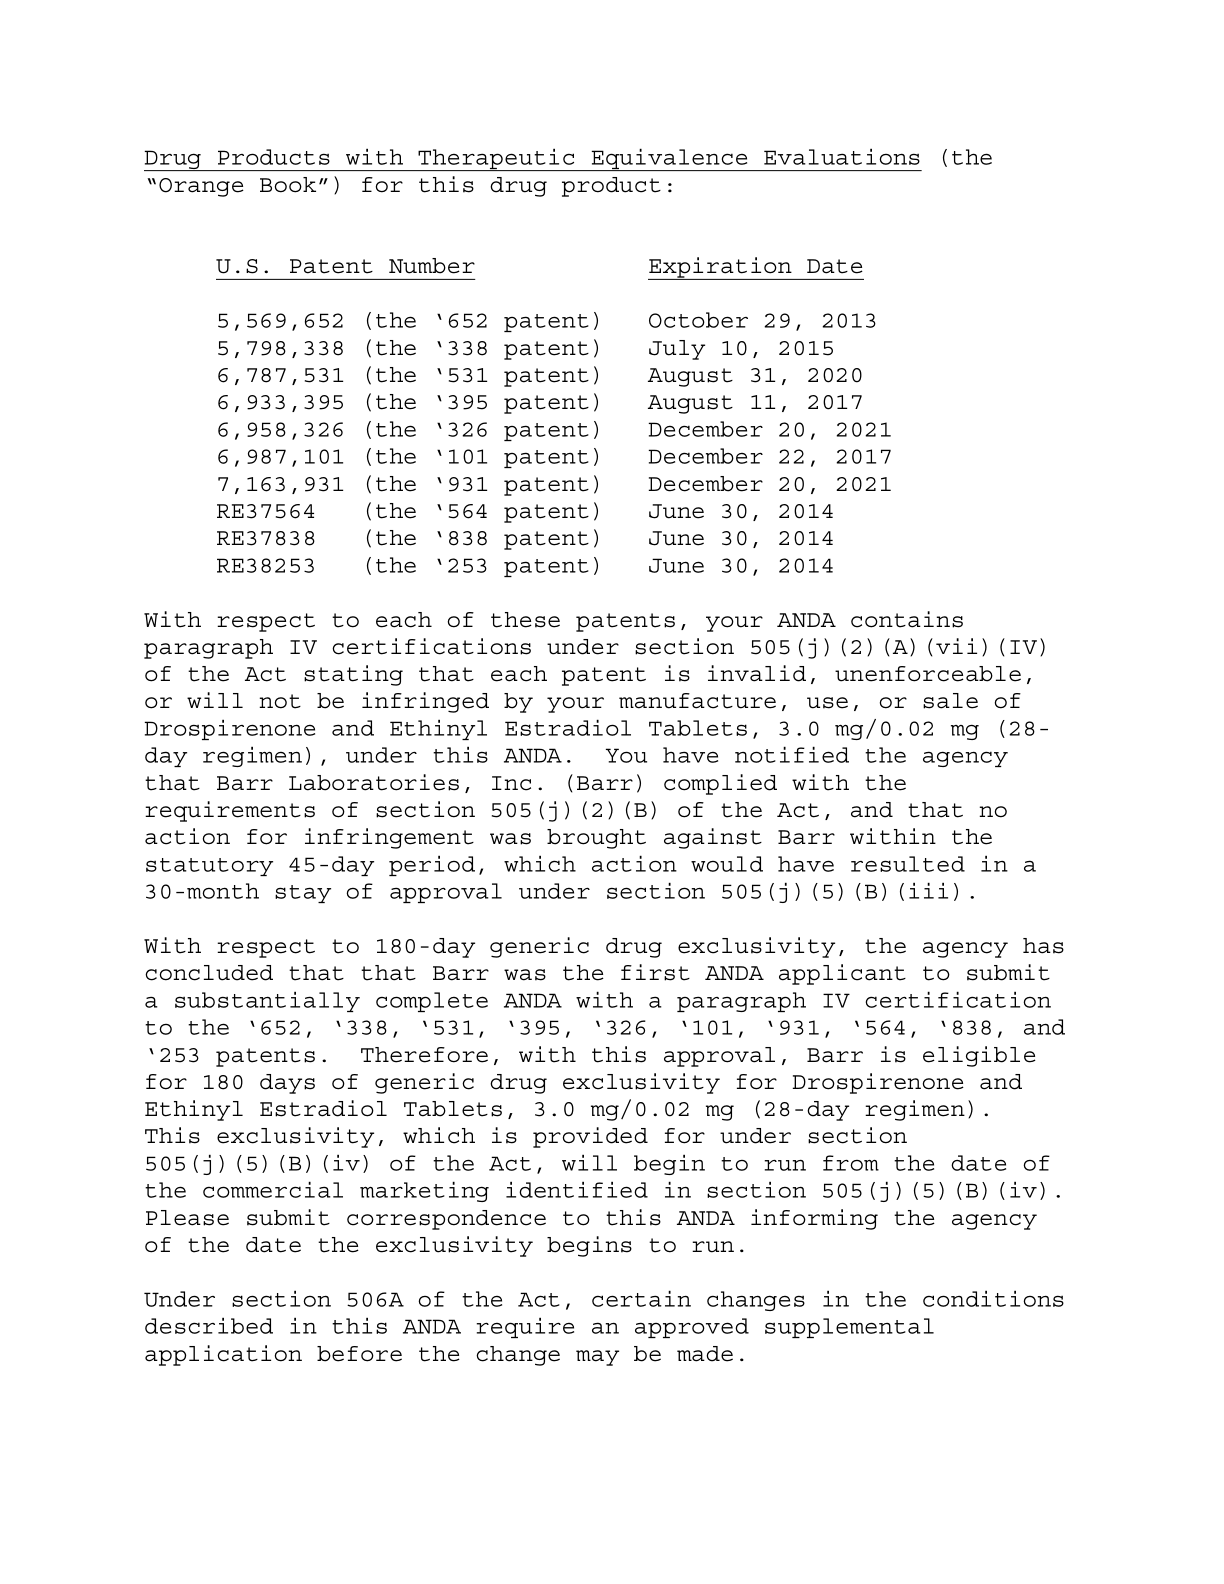nolines: (213, 255, 892, 579)
